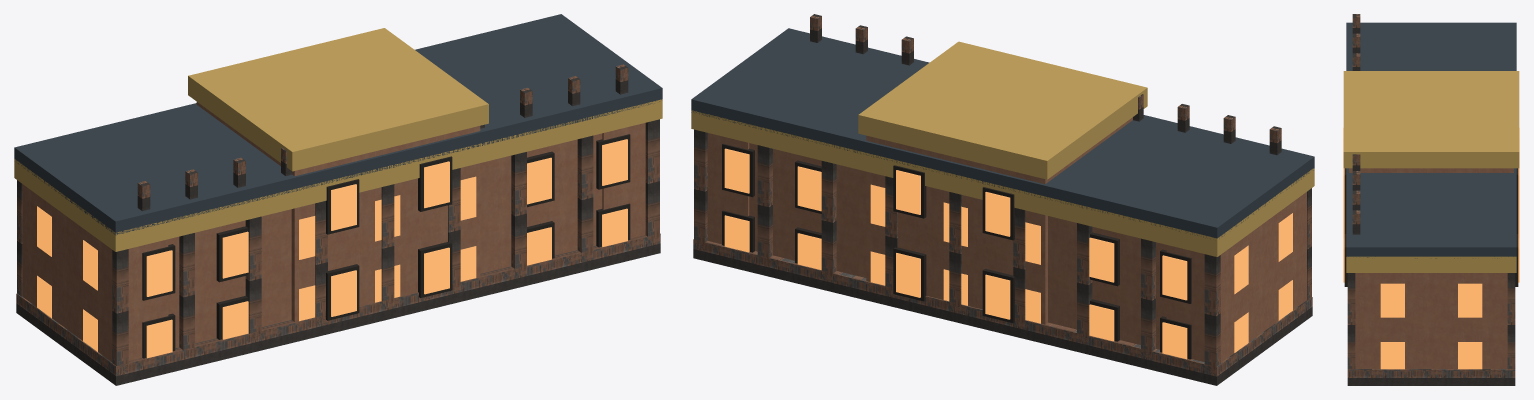
The model's file is winter.glb.
3 views of the same model, side by side, from view 1: azimuth 30°, elevation 25°; view 2: azimuth 150°, elevation 25°; view 3: azimuth 270°, elevation 25° (orthographic). The views are drawn at different scales.
Visible parts, largest first — view 1: winter; view 2: winter; view 3: winter.
Boxes of the visible parts, left/top/right/bottom form: winter: left=14, top=14, right=662, bottom=385; winter: left=691, top=14, right=1314, bottom=385; winter: left=1343, top=14, right=1519, bottom=385.
Size of the model in its own units: 20.6 by 6.95 by 6.82.
Materials: 6 (2 with a texture image).
